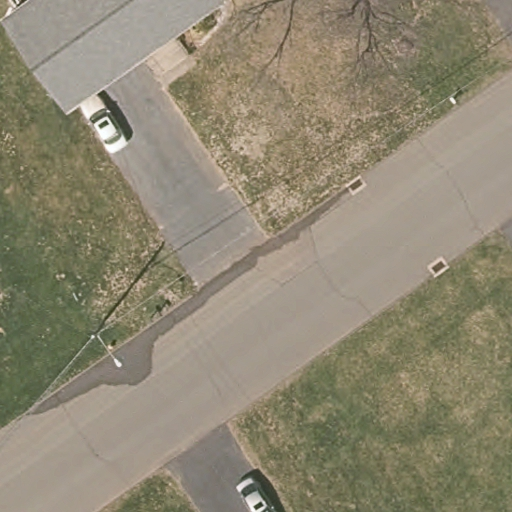DT: (86, 332, 108, 346)
